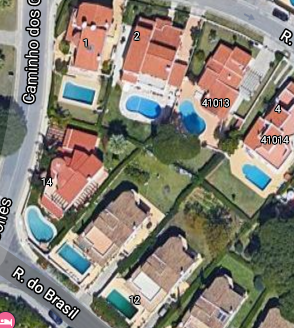pool: (240, 160, 275, 189), (108, 289, 143, 318), (26, 211, 55, 244), (61, 245, 90, 273), (62, 83, 97, 105), (180, 102, 205, 132), (127, 97, 158, 116)
